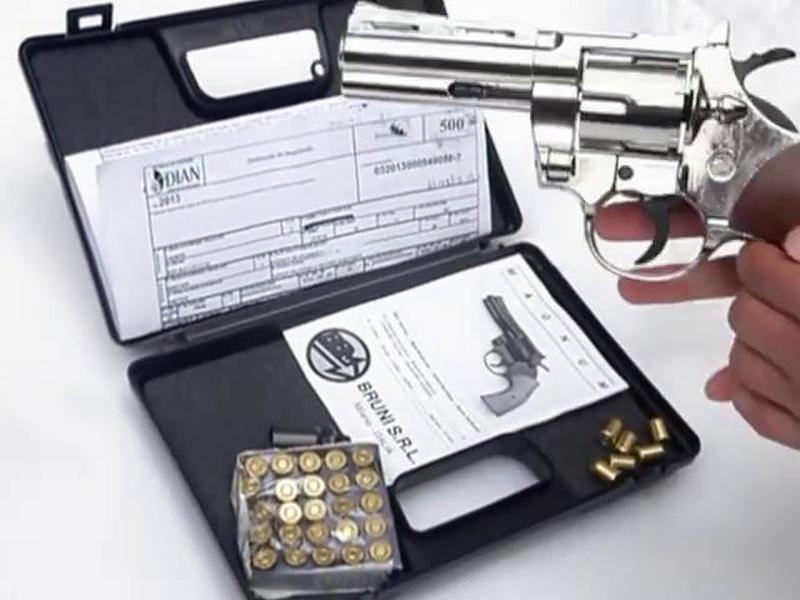Revolver: (330, 11, 800, 296)
